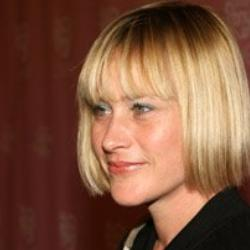face: (61, 2, 249, 209)
